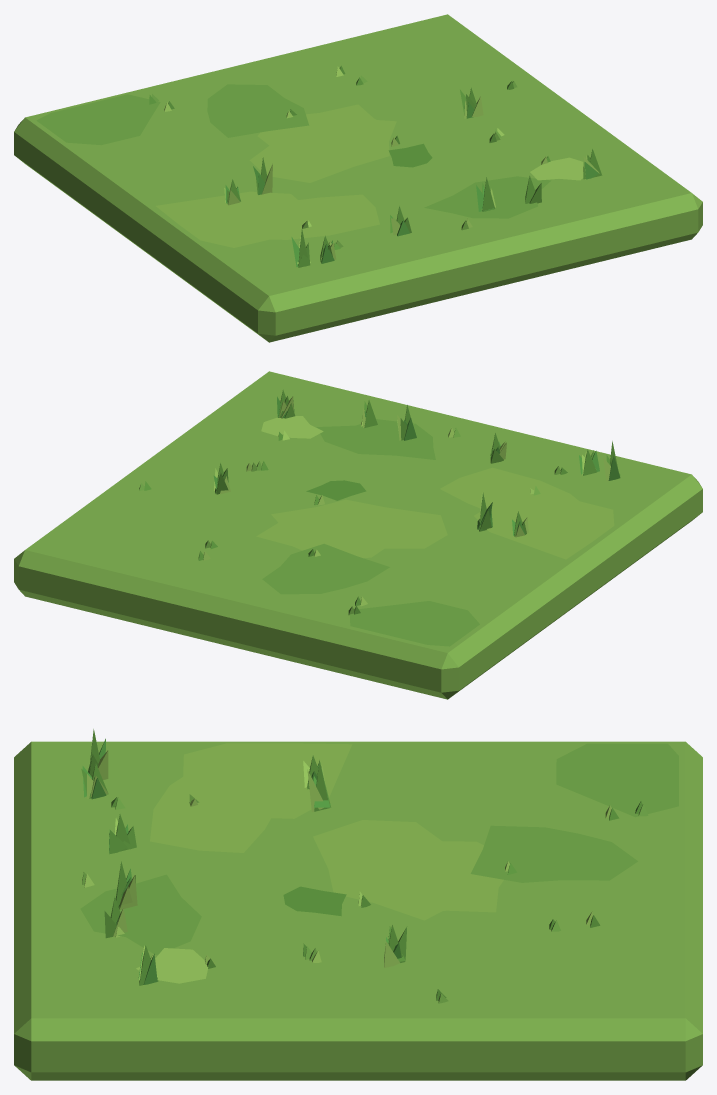
Rendered from tile_grass.fbx.
The picture shows the model from 3 angles, top to bottom: view 1: azimuth 30°, elevation 25°; view 2: azimuth 150°, elevation 25°; view 3: azimuth 270°, elevation 25°; orthographic projection. The views are drawn at different scales.
Visible parts, largest first — view 1: tile_grass; view 2: tile_grass; view 3: tile_grass.
Boxes of the visible parts, x1=… form: tile_grass: x1=14, y1=14, x2=702, y2=342; tile_grass: x1=14, y1=371, x2=702, y2=699; tile_grass: x1=14, y1=729, x2=702, y2=1080.
Size of the model in its own units: 1 by 0.1805 by 1.
